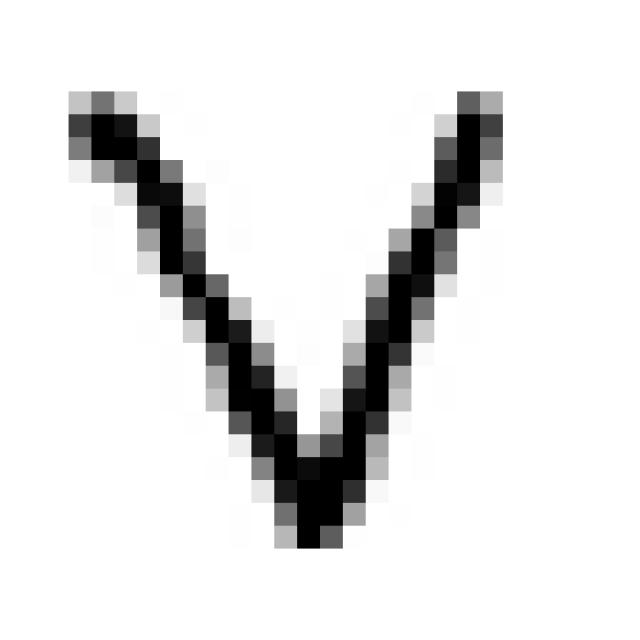7 -seven-: (39, 73, 522, 570)
